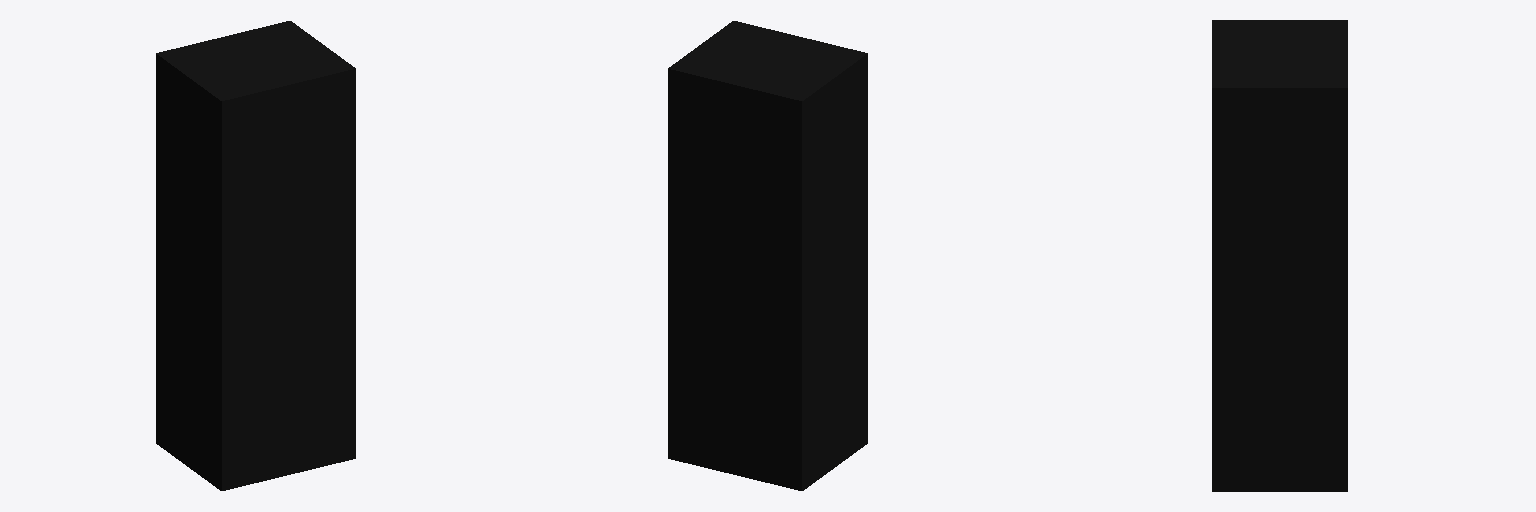
robot.urdf — black_box3:
<?xml version="1.0"?>
<robot name="black_box3">
  <link name="base_link">
    <inertial>
      <origin xyz="0 0 0" rpy="0 0 0" />
      <mass value="0.122" />
      <inertia ixx="0.000360" ixy="0" ixz="0" iyy="0.0000615" iyz="0"
          izz="0.00036" />
    </inertial>
    <visual>
      <origin xyz="0 0 0" rpy="0 0 0" />
      <geometry>
        <box size="0.065 0.055 0.180" />
      </geometry>
      <material name="blackish">
        <color rgba="0.1 0.1 0.1 1.0" />
      </material>
    </visual>

    <!--
      This places contact spheres on the corners of the visual box and a
      *slightly* smaller inset contact box (centered on the visual origin). This
      accounts for issues in the contact computation providing stable table
      contact *and* supports grasping.

      When the box is in stable contact with the ground plane, the corner
      spheres will provide fixed contact points (simulating distributed contact
      points around the face).  However, for arbitrary grip configuration, the
      slightly inset box will provide contact with a *slight* offset (in this
      case a deviation of 0.0005 m from the visual surface).

      https://github.com/RobotLocomotion/drake/issues/6254 tracks the
      difficulty in supporting face-to-face contact.
     -->
    <collision>
      <geometry>
        <box size="0.064 0.054 0.170" />
      </geometry>
    </collision>

    <collision>
      <origin xyz="-0.0825 -0.0275 -0.09" rpy="0 0 0"/>
      <geometry>
        <sphere radius="1e-7"/>
      </geometry>
    </collision>
    <collision>
      <origin xyz="-0.0825 0.0275 -0.09" rpy="0 0 0"/>
      <geometry>
        <sphere radius="1e-7"/>
      </geometry>
    </collision>
    <collision>
      <origin xyz="0.0825 0.0275 -0.09" rpy="0 0 0"/>
      <geometry>
        <sphere radius="1e-7"/>
      </geometry>
    </collision>
    <collision>
      <origin xyz="0.0825 -0.0275 -0.09" rpy="0 0 0"/>
      <geometry>
        <sphere radius="1e-7"/>
      </geometry>
    </collision>

    <!-- Add some spheres near the center too -->
    <collision>
      <origin xyz="-0.0 -0.0275 -0.09" rpy="0 0 0"/>
      <geometry>
        <sphere radius="1e-7"/>
      </geometry>
    </collision>

    <collision>
      <origin xyz="-0.0 0.0275 -0.09" rpy="0 0 0"/>
      <geometry>
        <sphere radius="1e-7"/>
      </geometry>
    </collision>

    <collision>
      <origin xyz="-0.0325 -0.0275 0.09" rpy="0 0 0"/>
      <geometry>
        <sphere radius="1e-7"/>
      </geometry>
    </collision>
    <collision>
      <origin xyz="-0.0325 0.0275 0.09" rpy="0 0 0"/>
      <geometry>
        <sphere radius="1e-7"/>
      </geometry>
    </collision>
    <collision>
      <origin xyz="0.0325 0.0275 0.09" rpy="0 0 0"/>
      <geometry>
        <sphere radius="1e-7"/>
      </geometry>
    </collision>
    <collision>
      <origin xyz="0.0325 -0.0275 0.09" rpy="0 0 0"/>
      <geometry>
        <sphere radius="1e-7"/>
      </geometry>
    </collision>

    <collision>
      <origin xyz="-0.0 -0.0275 0.09" rpy="0 0 0"/>
      <geometry>
        <sphere radius="1e-7"/>
      </geometry>
    </collision>

    <collision>
      <origin xyz="-0.0 0.0275 0.09" rpy="0 0 0"/>
      <geometry>
        <sphere radius="1e-7"/>
      </geometry>
    </collision>

  </link>
</robot>

--- What the picture shows (computed from the rendered views, not written in the file) ---
Views: 3 orthographic renders of the robot side by side, from view 1: azimuth 30°, elevation 25°; view 2: azimuth 150°, elevation 25°; view 3: azimuth 270°, elevation 25°.
Robot: black_box3 — 1 links, 0 joints (none); root link base_link; default pose: every joint at zero.
Visible links, largest first — view 1: base_link; view 2: base_link; view 3: base_link.
Boxes of the visible links, bbox=[...] form: base_link: bbox=[156, 21, 355, 490]; base_link: bbox=[668, 21, 867, 490]; base_link: bbox=[1212, 20, 1347, 491].
Size in the robot's own frame: 0.065 by 0.055 by 0.18 metres.
Geometry: primitives only (box / cylinder / sphere), no mesh files.